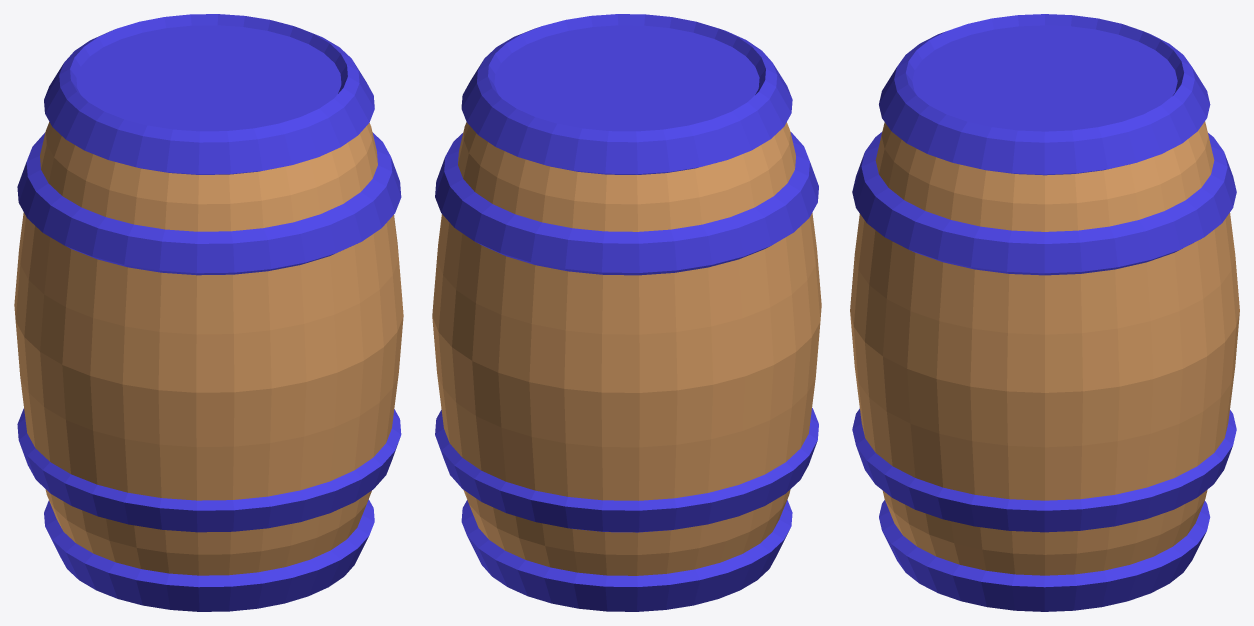
Rendered from Barrel1.fbx.
3 renders of one model, left to right at view 1: azimuth 30°, elevation 25°; view 2: azimuth 150°, elevation 25°; view 3: azimuth 270°, elevation 25°, orthographic.
Parts seen in each view (by area): view 1: Barrel; view 2: Barrel; view 3: Barrel.
Boxes of the visible parts, x1,y1,x2,y2 form: Barrel: [14, 14, 403, 611]; Barrel: [432, 14, 821, 611]; Barrel: [850, 14, 1239, 611].
Size of the model in its own units: 282 by 380 by 282.
